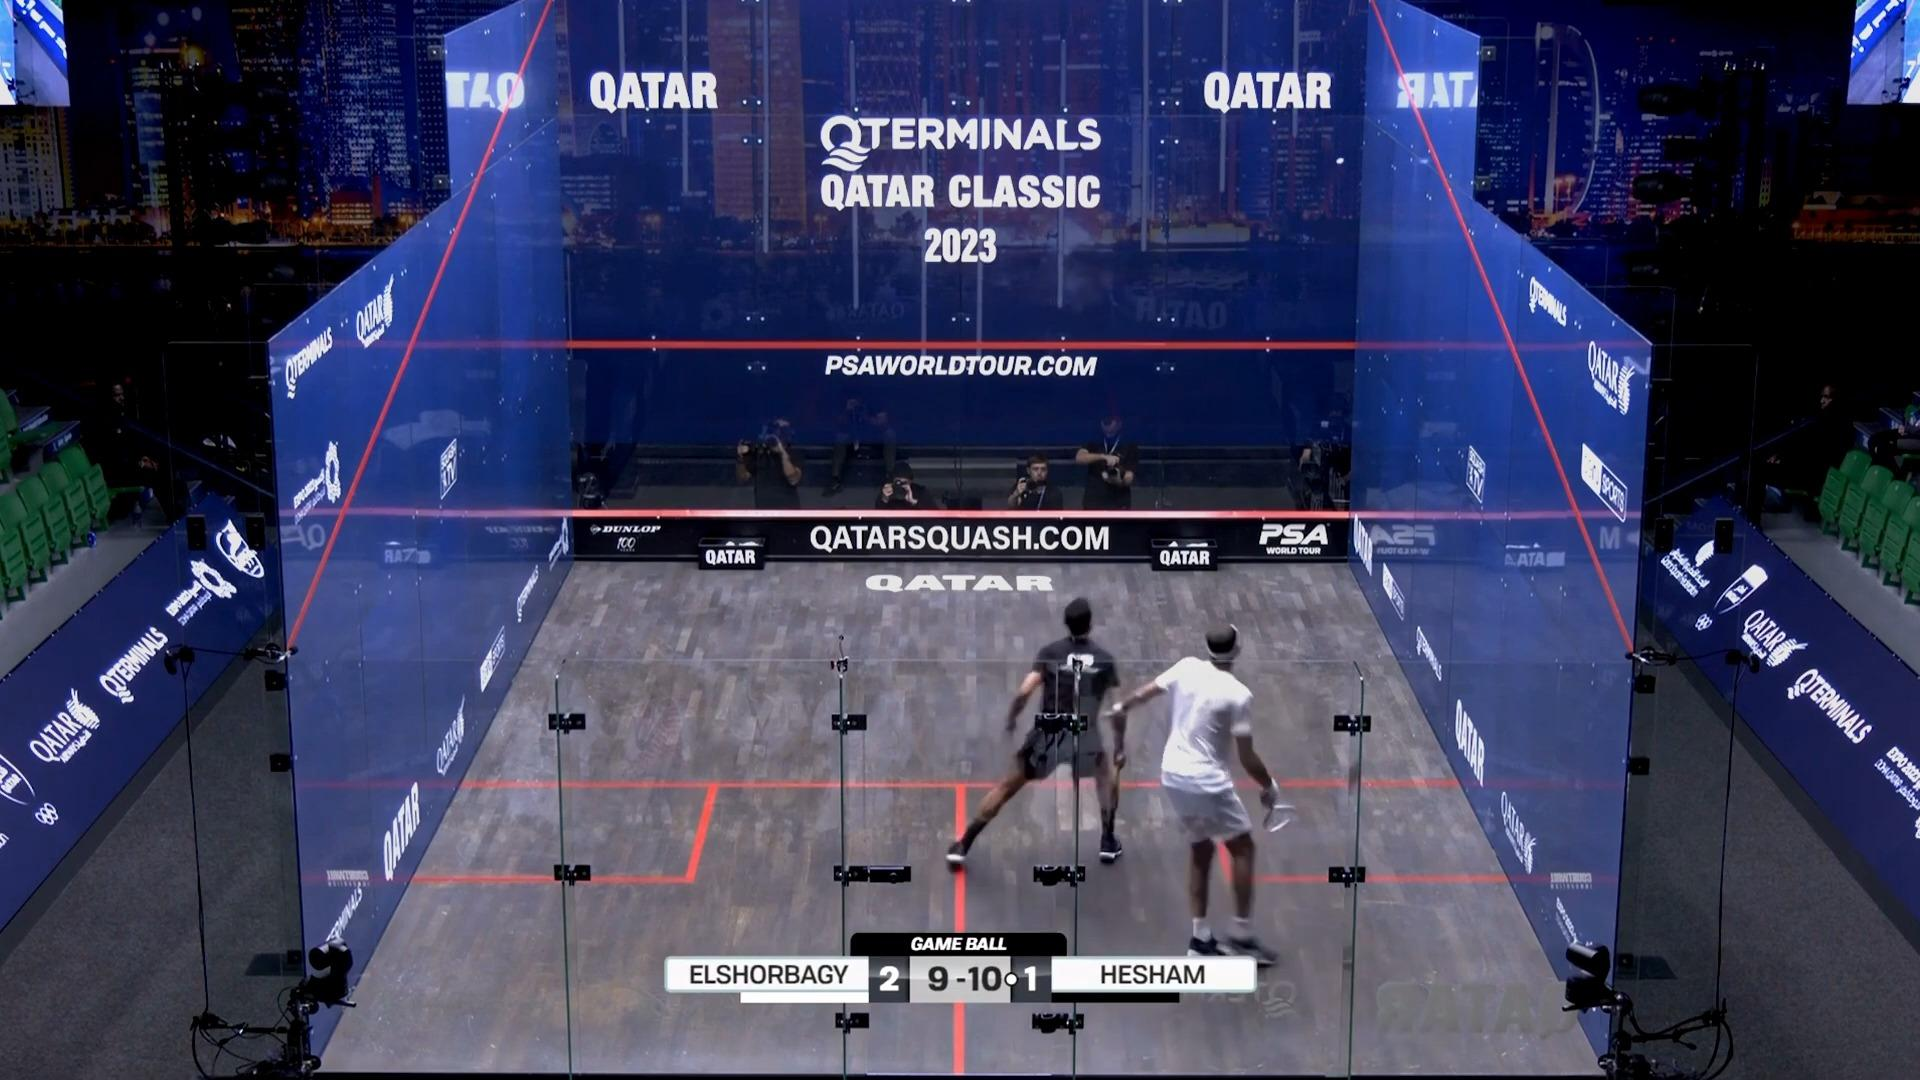Squash-Ball: (1329, 146, 1352, 178)
